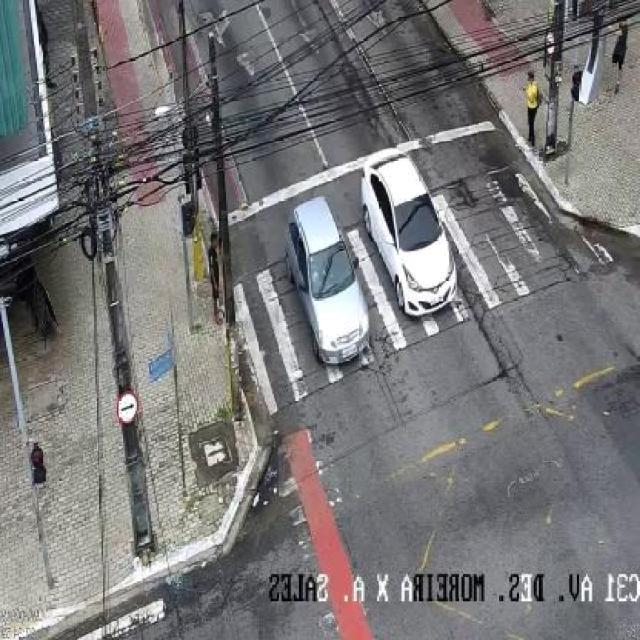Car: (264, 193, 382, 364), (360, 148, 465, 338)
